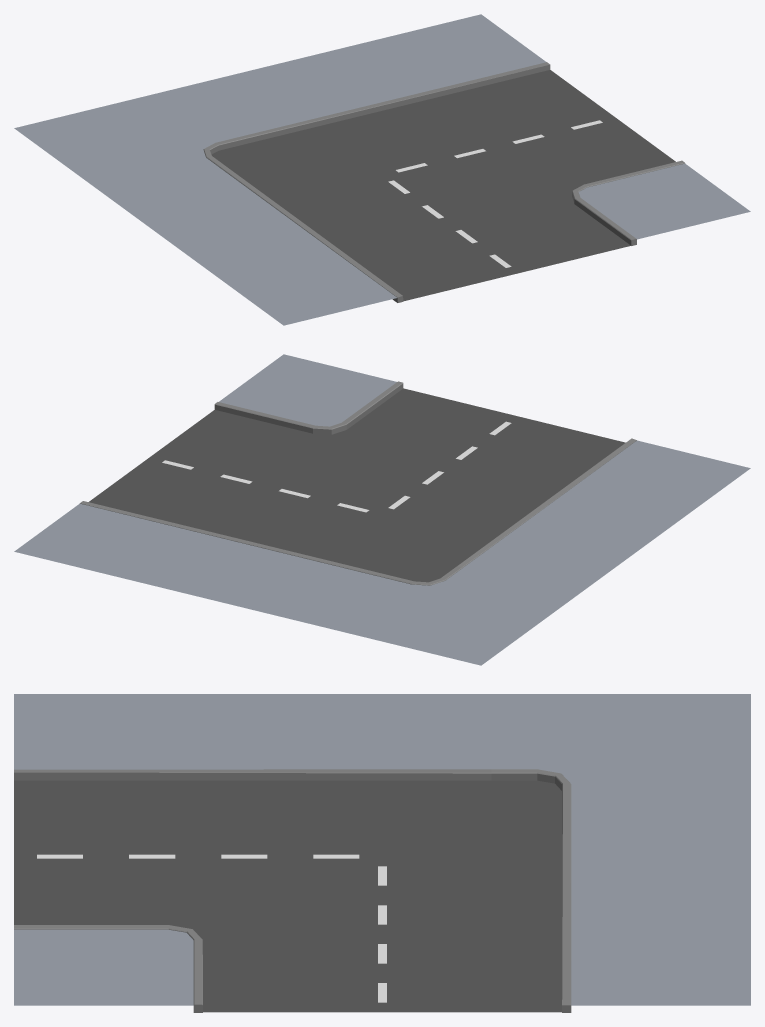
The model's file is Road_05.fbx.
3 renders of one model, top to bottom at view 1: azimuth 30°, elevation 25°; view 2: azimuth 150°, elevation 25°; view 3: azimuth 270°, elevation 25°, orthographic. The views are drawn at different scales.
Parts seen in each view (by area): view 1: Road_05; view 2: Road_05; view 3: Road_05.
Part boxes in pixels (left/top/right/bottom): Road_05: left=14, top=14, right=750, bottom=325; Road_05: left=14, top=354, right=750, bottom=665; Road_05: left=14, top=694, right=750, bottom=1012.
Bounding box in the file's own units: 1200 × 15 × 1200.
